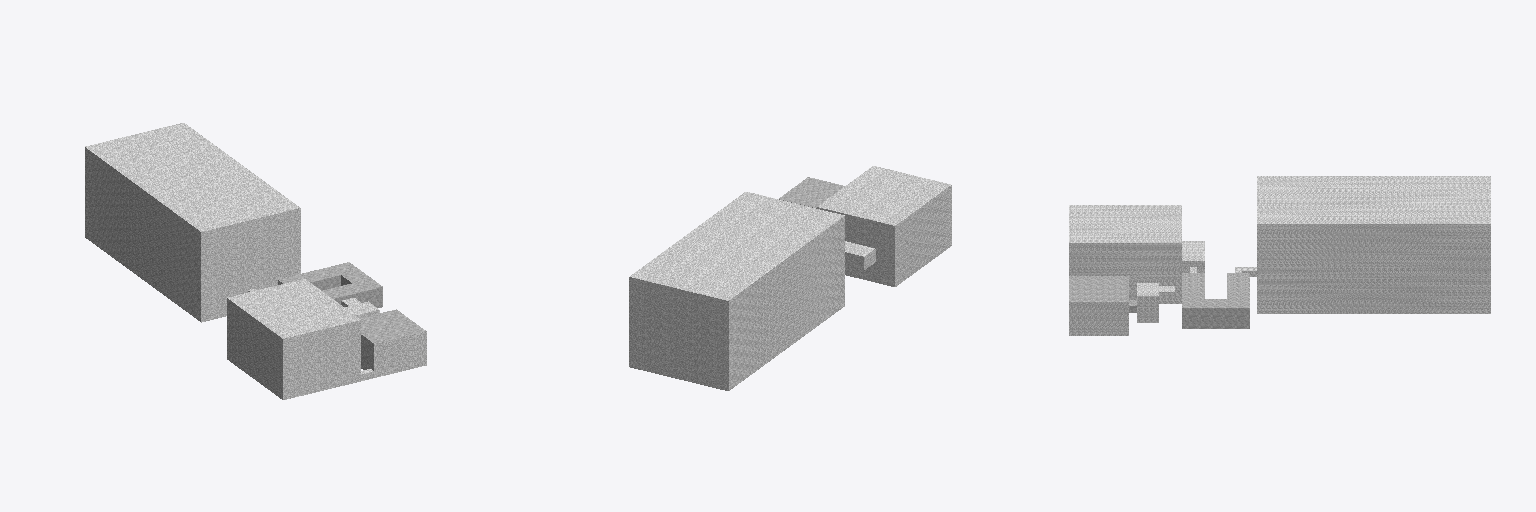
3 views of the same model, side by side, from view 1: azimuth 30°, elevation 25°; view 2: azimuth 150°, elevation 25°; view 3: azimuth 270°, elevation 25° (orthographic).
Visible parts, largest first — view 1: Geometry; view 2: Geometry; view 3: Geometry.
Boxes of the visible parts, <box> form: Geometry: <box>85,123,426,399</box>; Geometry: <box>629,166,951,390</box>; Geometry: <box>1069,176,1490,335</box>.
Size of the model in its own units: 240 by 141 by 560.
Materials: 4 (2 with a texture image).